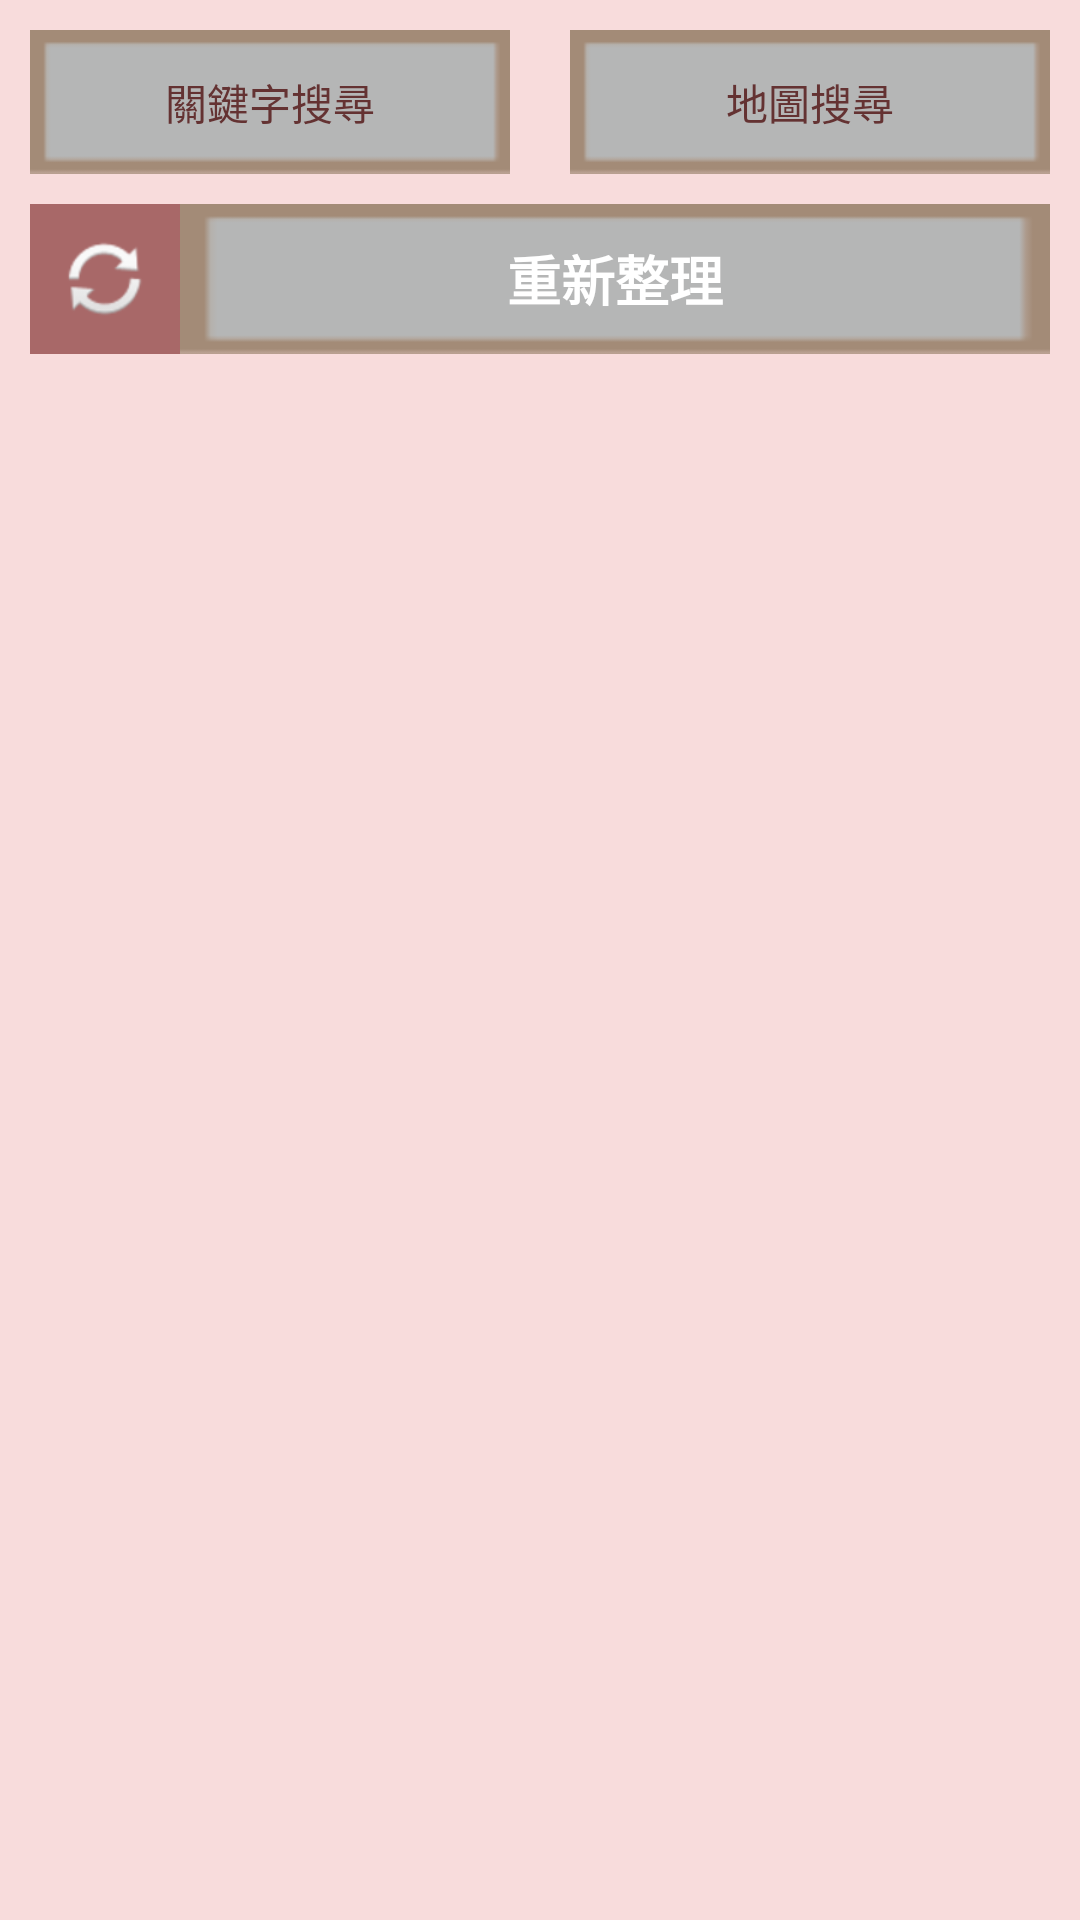

Icon bounding boxes for this 1080×1920 phone screenshot, format (x1, y1, x2, y2):
popup sync: (30, 204, 180, 354)
